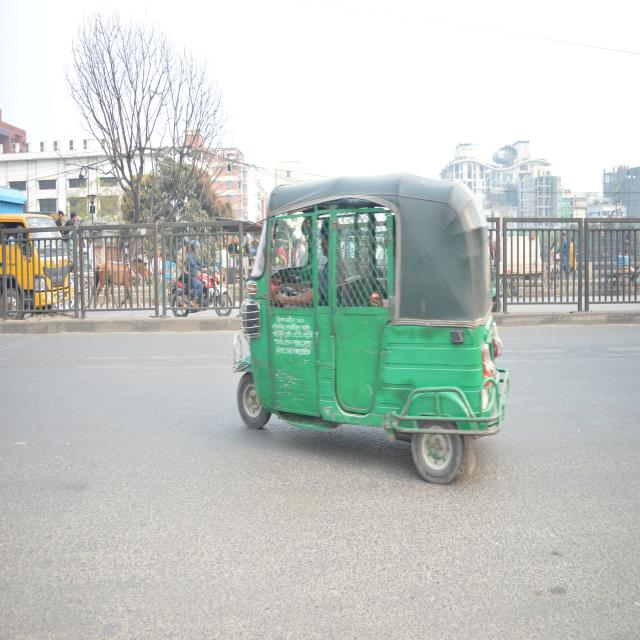motorbike: (168, 260, 233, 322)
pickup-van: (0, 180, 72, 330)
